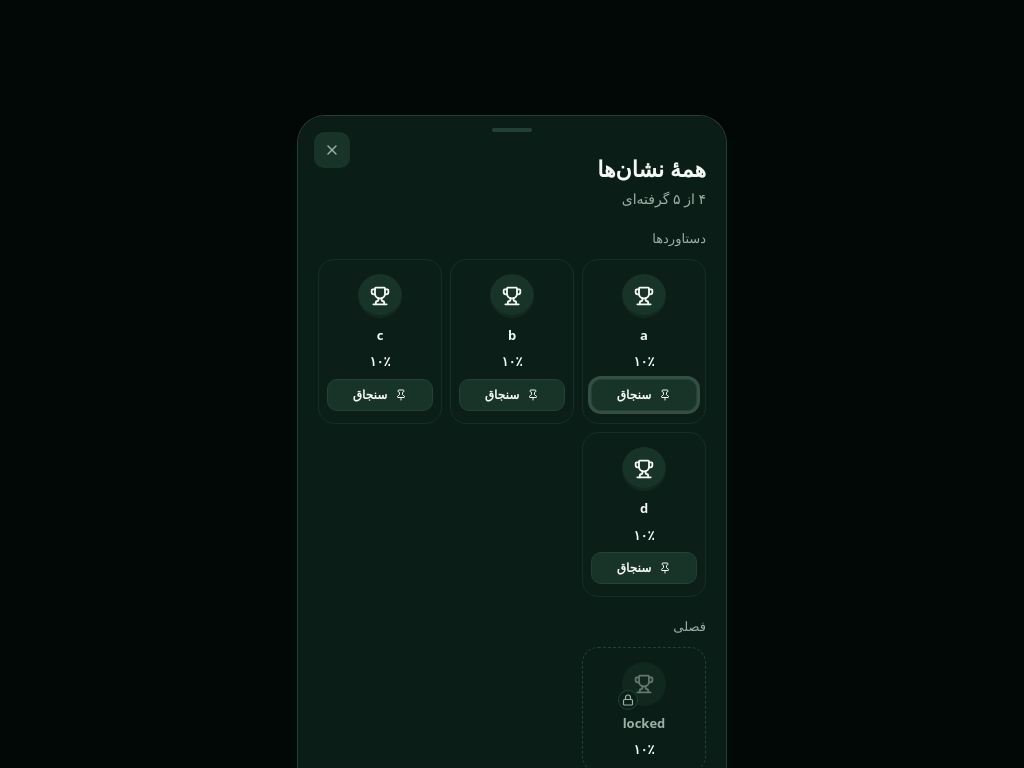
Test: BadgeWall › says so when the server refuses, and changes nothing
Click the 3rd button "سنجاق" at x=644, y=395, box left=591, top=379, right=697, bottom=411
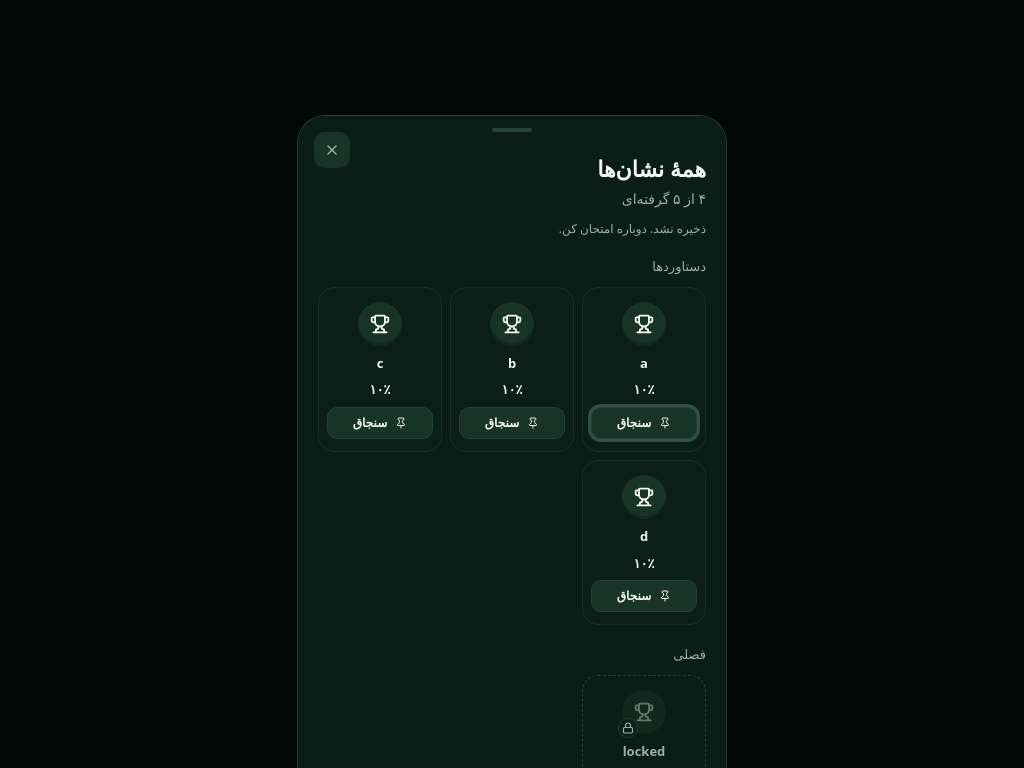
Expected: the text "ذخیره نشد. دوباره امتحان کن." is shown, left=559, top=220, right=706, bottom=237
